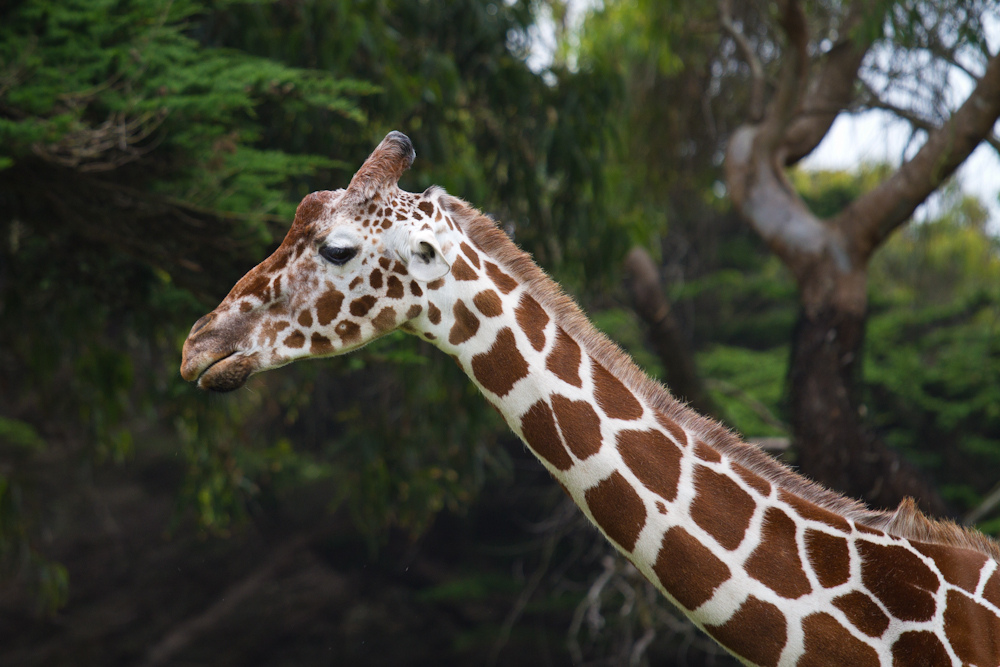giraffe: (180, 144, 994, 647)
